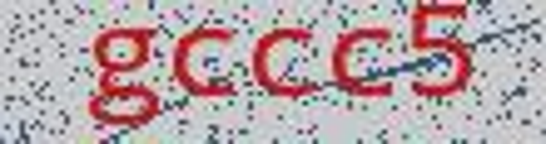5: (406, 4, 475, 110)
c: (250, 16, 318, 110), (174, 18, 237, 113), (327, 19, 399, 98)
g: (86, 15, 164, 133)
